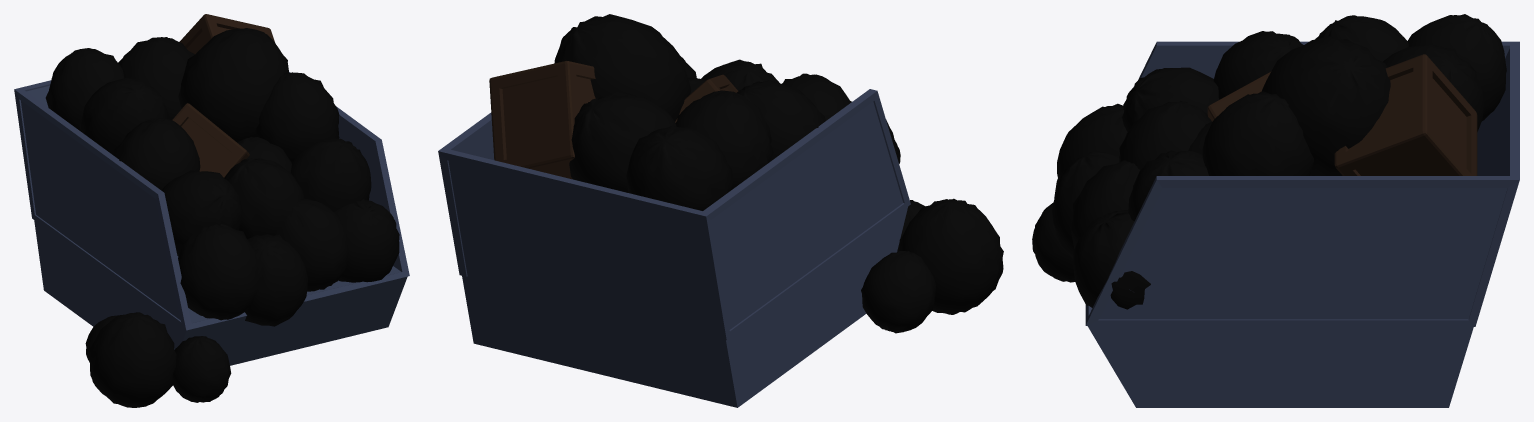
Rendered from SM_Dumpster.fbx.
3 views of the same model, side by side, from view 1: azimuth 30°, elevation 25°; view 2: azimuth 150°, elevation 25°; view 3: azimuth 270°, elevation 25° (orthographic). The views are drawn at different scales.
Parts seen in each view (by area): view 1: Sphere008; view 2: Sphere008; view 3: Sphere008.
Part boxes in pixels (x1,y1,x2,y2): Sphere008: (14, 14, 409, 407); Sphere008: (438, 14, 1003, 407); Sphere008: (1032, 14, 1519, 407).
Size of the model in its own units: 126 by 101 by 136.
